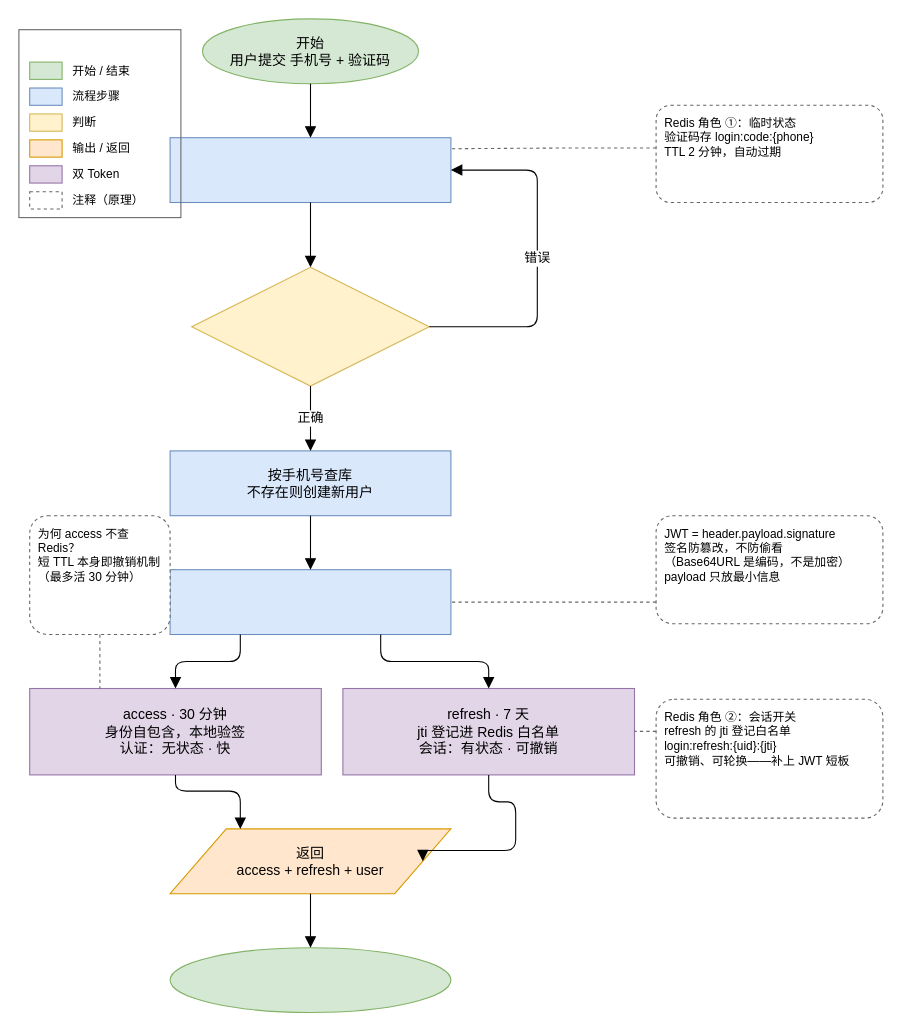
This 902x1031 diagram has some shape labels left out. Here are the shapes that lost their labels. From the top down, the box of each, then its label:
(18, 29, 181, 218): 图例
(169, 137, 451, 202): 校验验证码 Redis: login:code:{phone}
(191, 266, 429, 386): 验证码 正确？
(169, 569, 451, 634): 同时签发两个 Token
(169, 947, 451, 1013): 登录态建立 请求带 access，过期用 refresh 换新
